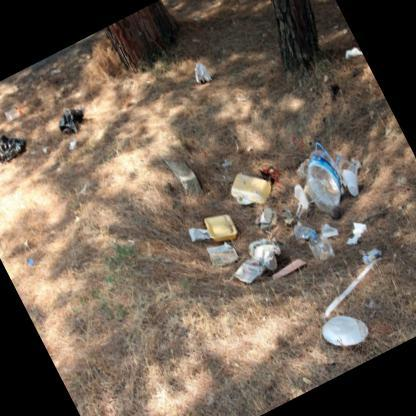Garbage: (168, 121, 415, 409), (256, 136, 380, 262), (281, 237, 405, 334), (180, 204, 264, 296), (229, 219, 308, 310), (221, 146, 296, 233), (290, 211, 375, 276), (308, 296, 376, 365), (142, 142, 213, 207), (48, 99, 95, 145), (0, 124, 34, 182), (184, 59, 212, 88), (340, 35, 364, 67), (0, 106, 27, 129)
